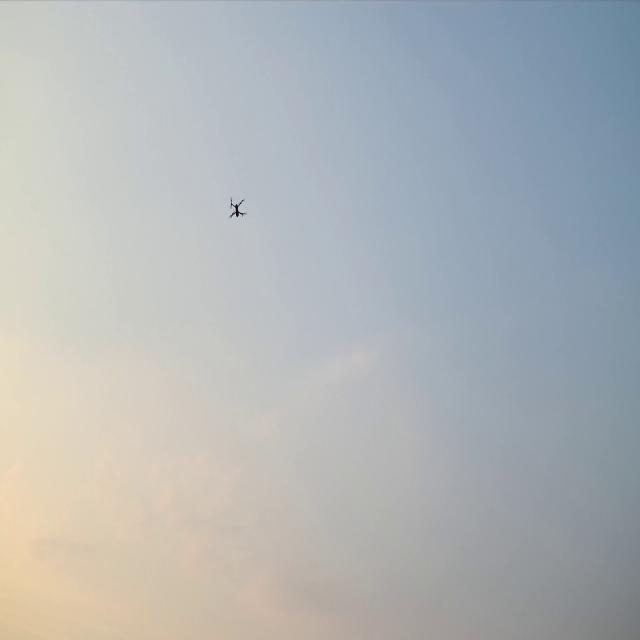UAV: (231, 200, 243, 216)
